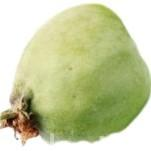fruit: (0, 0, 151, 145)
